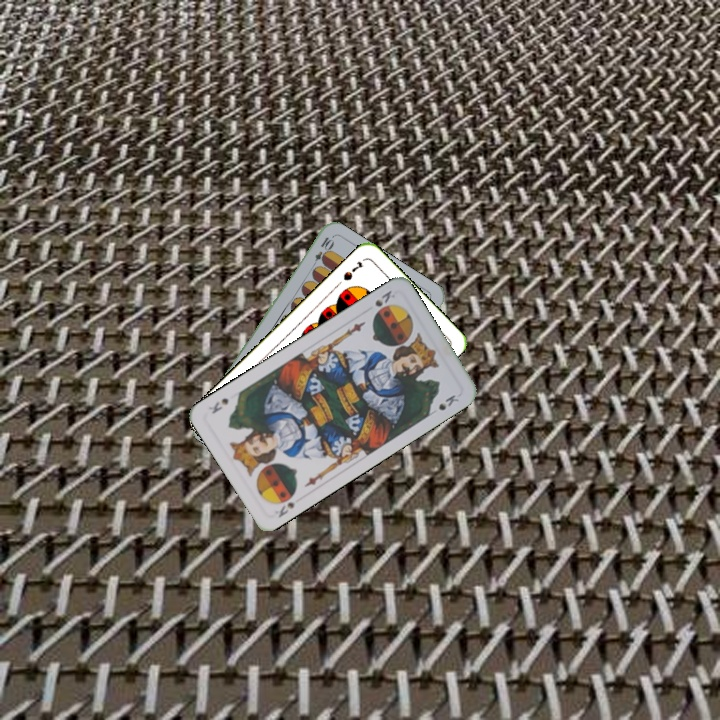E10: (308, 233, 335, 271)
S7: (339, 257, 366, 283)
SK: (270, 492, 305, 520), (371, 286, 394, 309)
